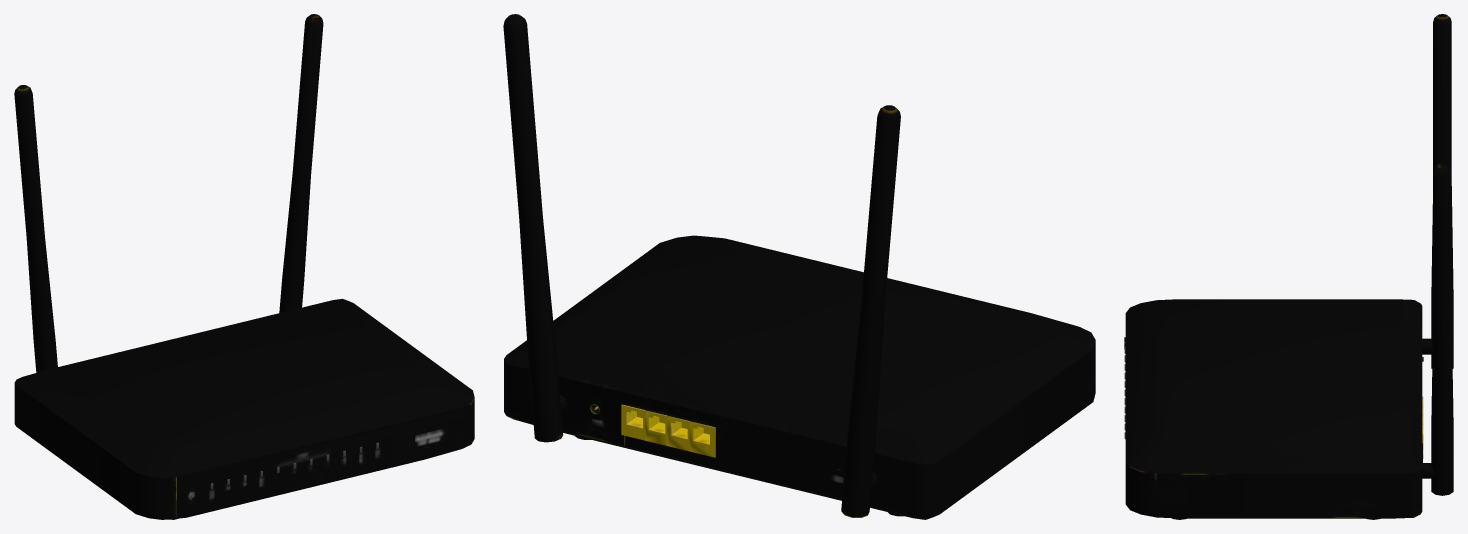
Rendered from Router.glb.
The picture shows the model from 3 angles, left to right: view 1: azimuth 30°, elevation 25°; view 2: azimuth 150°, elevation 25°; view 3: azimuth 270°, elevation 25°; orthographic projection. The views are drawn at different scales.
Visible parts, largest first — view 1: Router; view 2: Router; view 3: Router.
Boxes of the visible parts, x1,y1,x2,y2 form: Router: (14, 14, 474, 519); Router: (503, 14, 1095, 519); Router: (1124, 14, 1453, 519).
Bounding box in the file's own units: 0.2029 × 0.1979 × 0.1628.
1 material, 1 textured.
